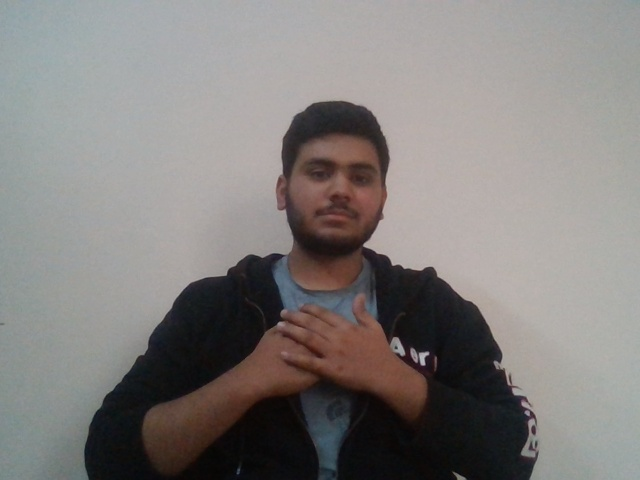Please: (253, 297, 398, 388)
